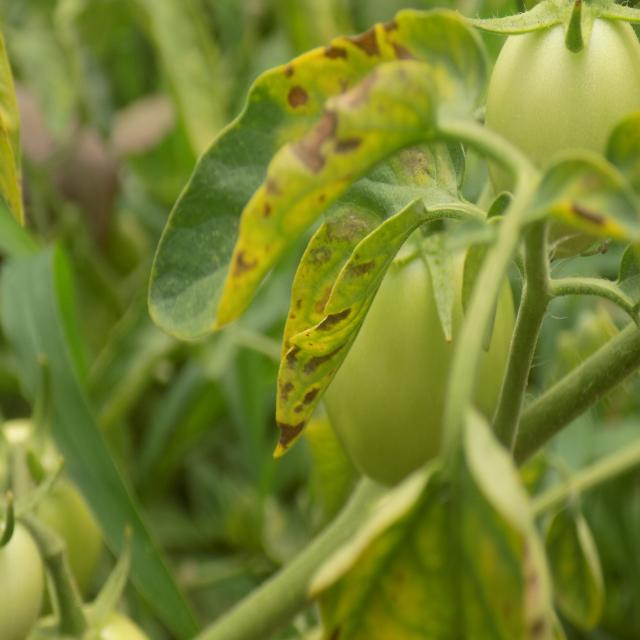tomato_early blight: (148, 15, 478, 338), (273, 184, 457, 455)
